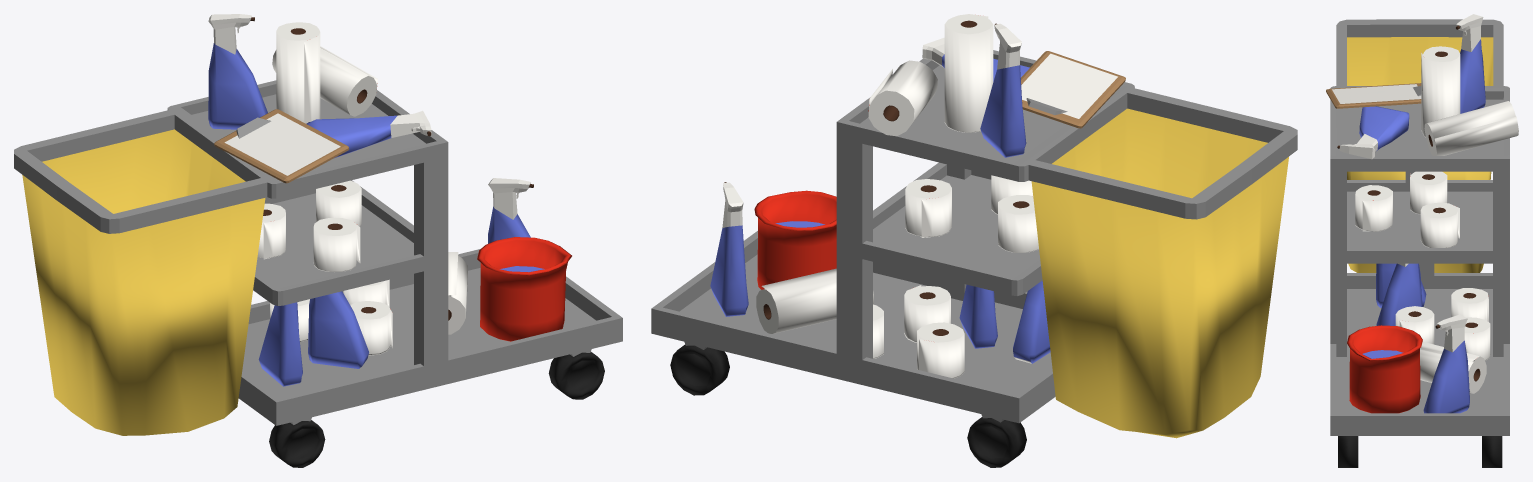
Rendered from JanitorCart.fbx.
3 views of the same model, side by side, from view 1: azimuth 30°, elevation 25°; view 2: azimuth 150°, elevation 25°; view 3: azimuth 270°, elevation 25° (orthographic). The views are drawn at different scales.
Visible parts, largest first — view 1: Cube; view 2: Cube; view 3: Cube.
Boxes of the visible parts, box(x1,y1,x2,y2) form: Cube: box(14, 14, 622, 467); Cube: box(651, 14, 1297, 467); Cube: box(1326, 14, 1518, 467).
Size of the model in its own units: 588 by 432 by 226.
